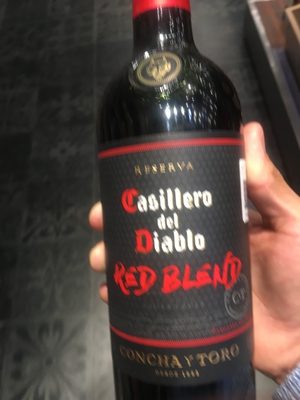casillero del diablo red blend: (91, 10, 260, 400)
